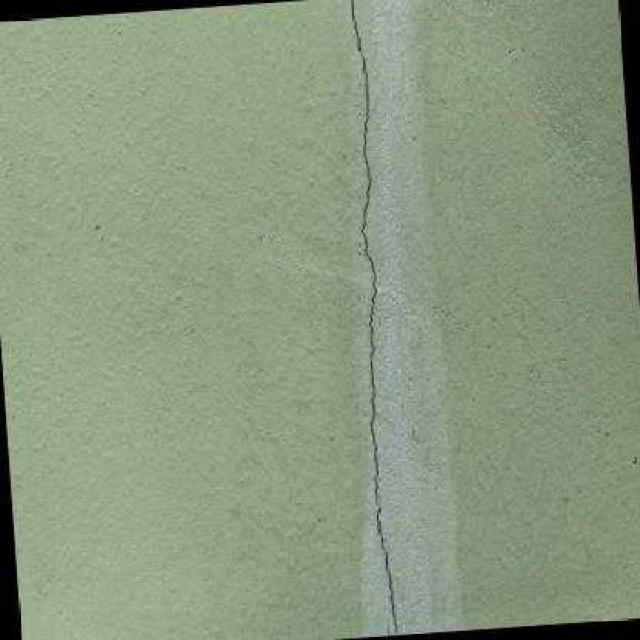D00: (351, 0, 379, 507), (376, 495, 398, 635), (388, 624, 390, 636)
